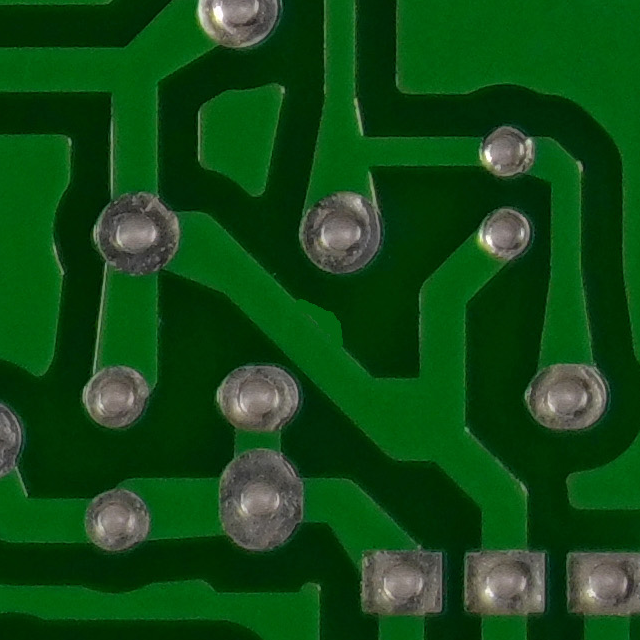spur: (280, 280, 360, 361)
